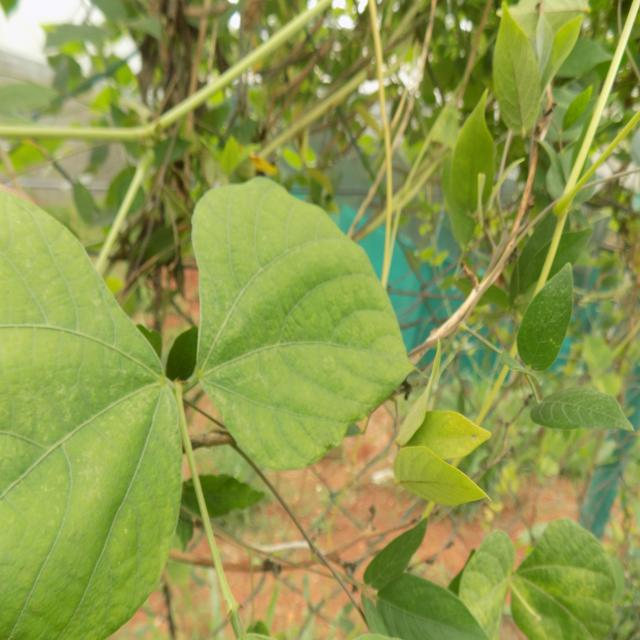Dolicos bean_healthy: (0, 172, 184, 640), (193, 170, 411, 468), (508, 504, 620, 640)
